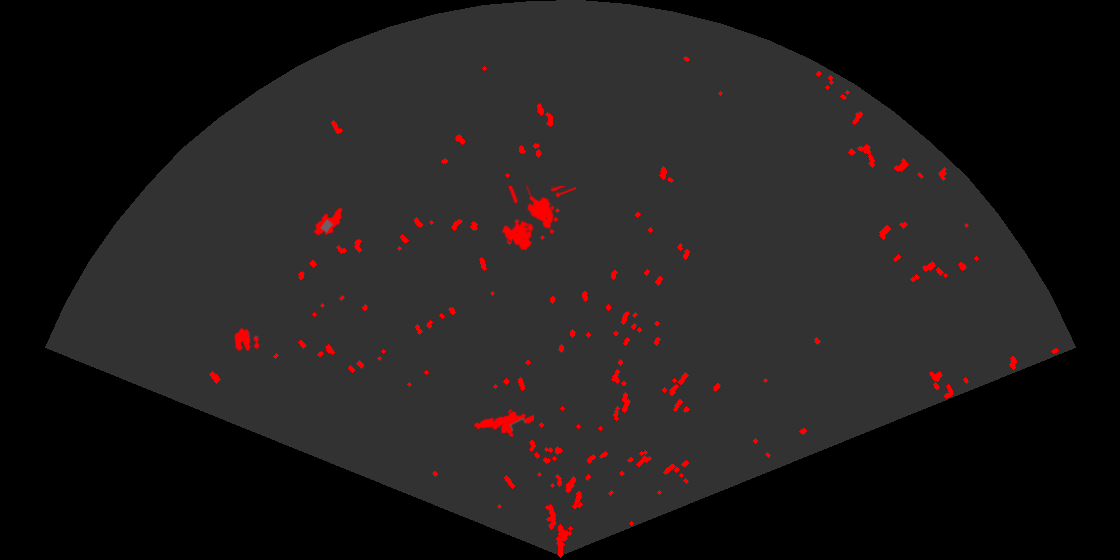AUV: (312, 206, 344, 237)
ball: (233, 327, 261, 353)
cage: (500, 186, 576, 252)
frogman: (472, 410, 534, 439)
